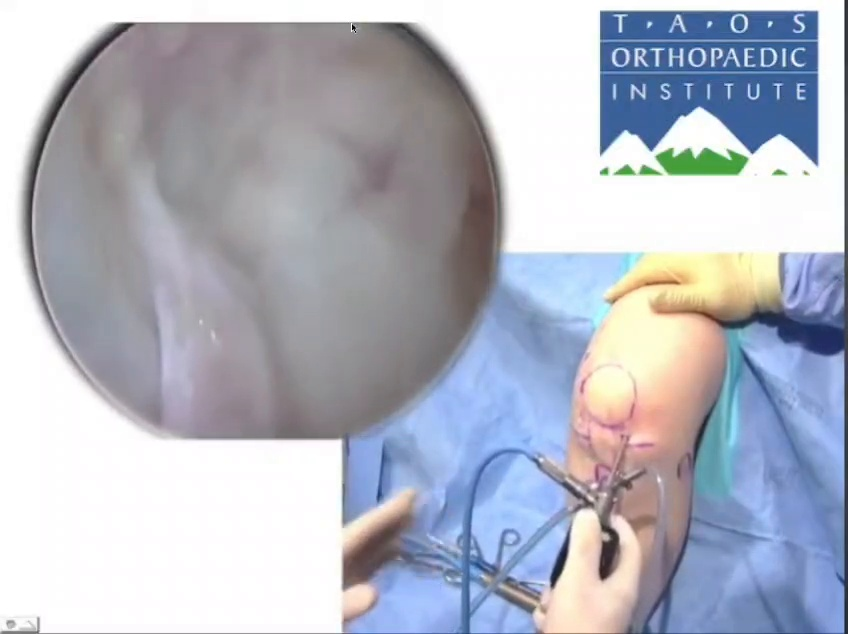probe: (734, 339, 806, 448)
